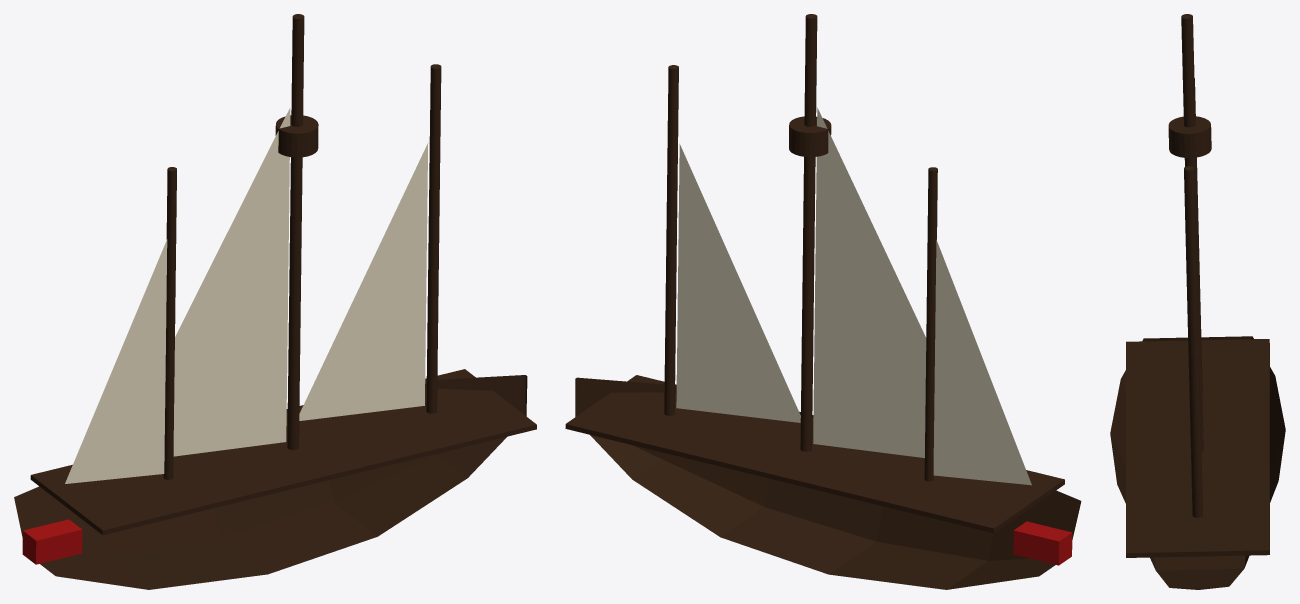
File: asset.glb
The picture shows the model from 3 angles, left to right: view 1: azimuth 30°, elevation 25°; view 2: azimuth 150°, elevation 25°; view 3: azimuth 270°, elevation 25°; orthographic projection.
Parts seen in each view (by area): view 1: hull, sail_main, deck, sail_fore, sail_mizzen, mast_main, mast_fore, mast_mizzen, figurehead, crow_nest; view 2: hull, sail_main, deck, sail_fore, sail_mizzen, mast_main, mast_fore, mast_mizzen, figurehead, crow_nest; view 3: deck, hull, mast_fore, mast_main, crow_nest, mast_mizzen.
Part boxes in pixels (x1,y1,x2,y2): hull: (14,375,527,589); sail_main: (129,108,290,456); deck: (30,369,536,534); sail_fore: (299,143,428,420); sail_mizzen: (65,239,167,483); mast_main: (287,14,304,449); mast_fore: (426,64,441,413); mast_mizzen: (163,167,176,479); figurehead: (22,519,82,564); crow_nest: (275,115,318,157); hull: (575,377,1081,589); sail_main: (813,107,963,457); deck: (565,375,1064,533); sail_fore: (676,144,800,422); sail_mizzen: (933,239,1031,485); mast_main: (800,14,817,451); mast_fore: (664,65,678,415); mast_mizzen: (924,167,937,481); figurehead: (1013,521,1072,565); crow_nest: (789,116,831,157); deck: (1126,339,1269,557); hull: (1110,336,1285,589); mast_fore: (1184,166,1202,517); mast_main: (1181,14,1203,451); crow_nest: (1168,116,1211,157); mast_mizzen: (1194,78,1202,389).
Size of the model in its own units: 10.75 by 11.04 by 3.3.
